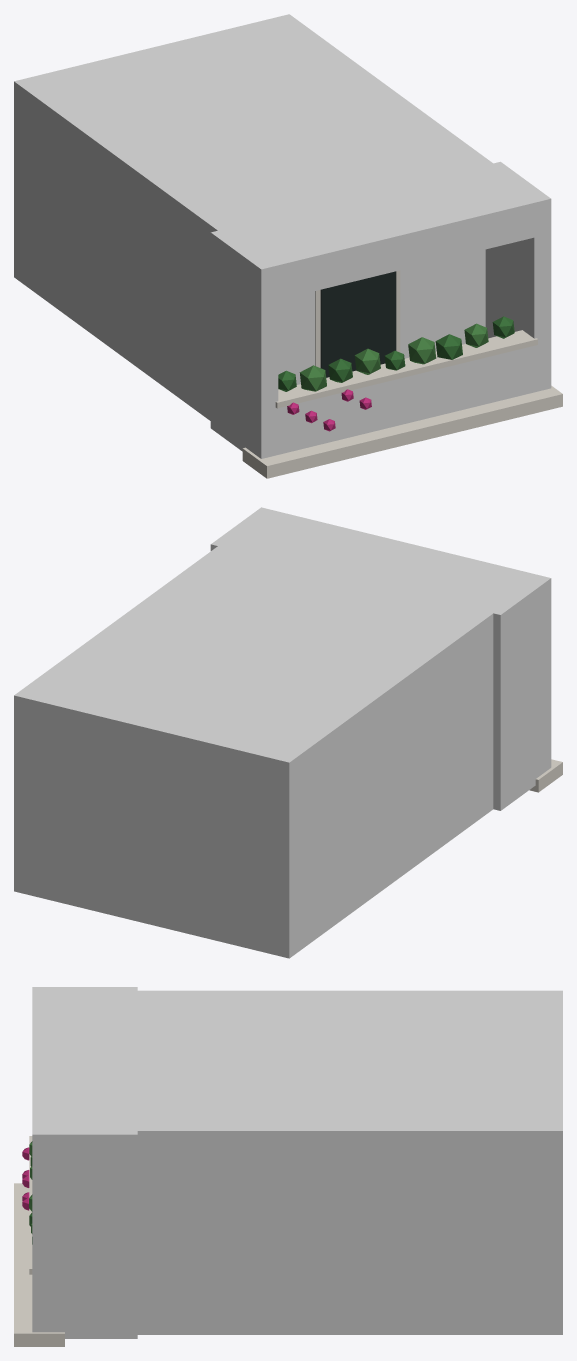
The model's file is lau_lo_gia_48.glb.
The picture shows the model from 3 angles, top to bottom: view 1: azimuth 30°, elevation 25°; view 2: azimuth 150°, elevation 25°; view 3: azimuth 270°, elevation 25°; orthographic projection. The views are drawn at different scales.
Parts seen in each view (by area): view 1: lau_lo_gia_48; view 2: lau_lo_gia_48; view 3: lau_lo_gia_48.
Boxes of the visible parts, bbox=[...] form: lau_lo_gia_48: bbox=[14, 14, 562, 478]; lau_lo_gia_48: bbox=[14, 507, 562, 958]; lau_lo_gia_48: bbox=[14, 987, 562, 1346].
Size of the model in its own units: 4.9 by 3.2 by 7.55.
